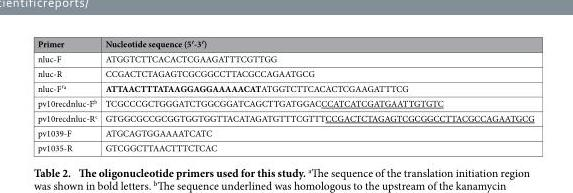table: (36, 37, 533, 153)
table column: (100, 37, 533, 153), (36, 37, 100, 153)
table column header: (36, 37, 533, 50)
table row: (36, 50, 533, 65), (36, 65, 533, 80), (36, 80, 533, 95), (36, 95, 533, 110), (36, 110, 533, 125), (36, 125, 533, 140), (36, 37, 533, 50), (36, 140, 533, 153)
